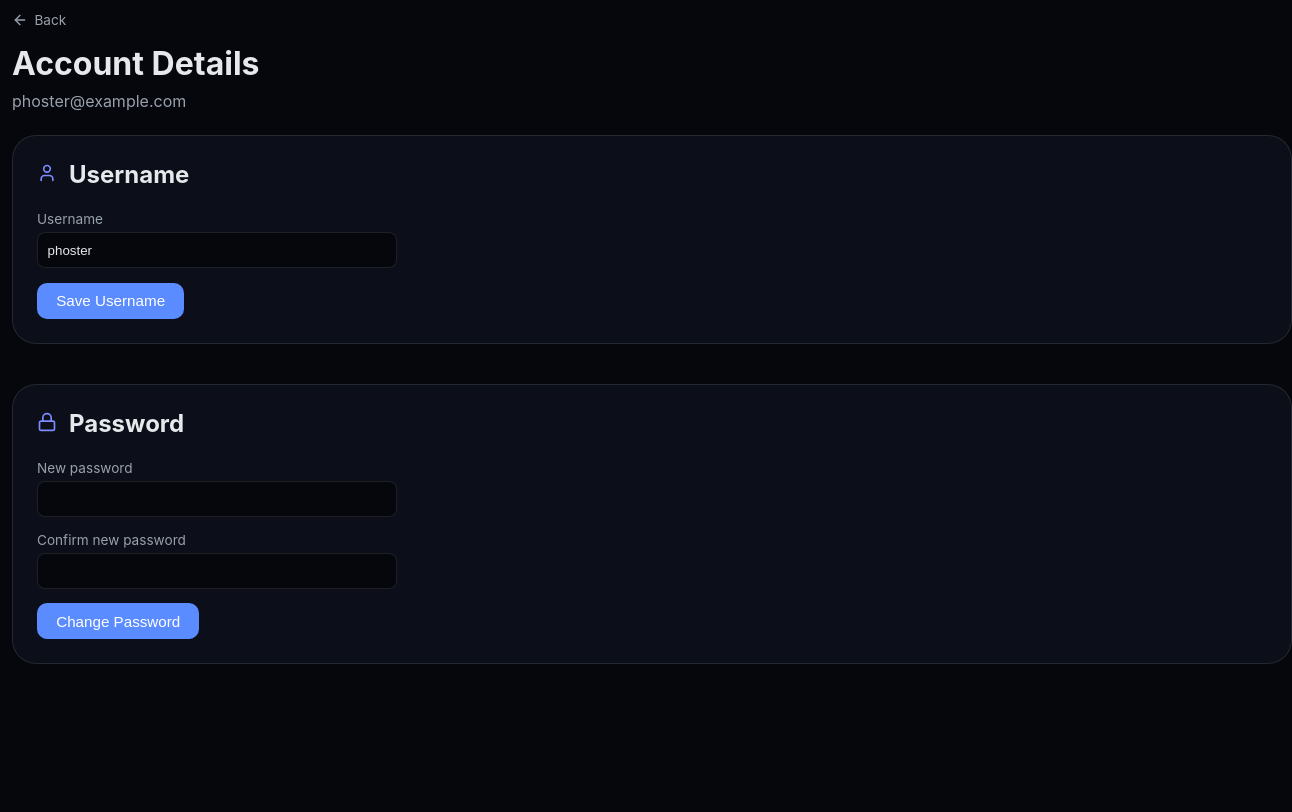
Account › saves a new username through the backend, not directly via Supabase
Replace the text in the field showing "phoster" with "newname": (217, 250) [37, 232, 397, 268]
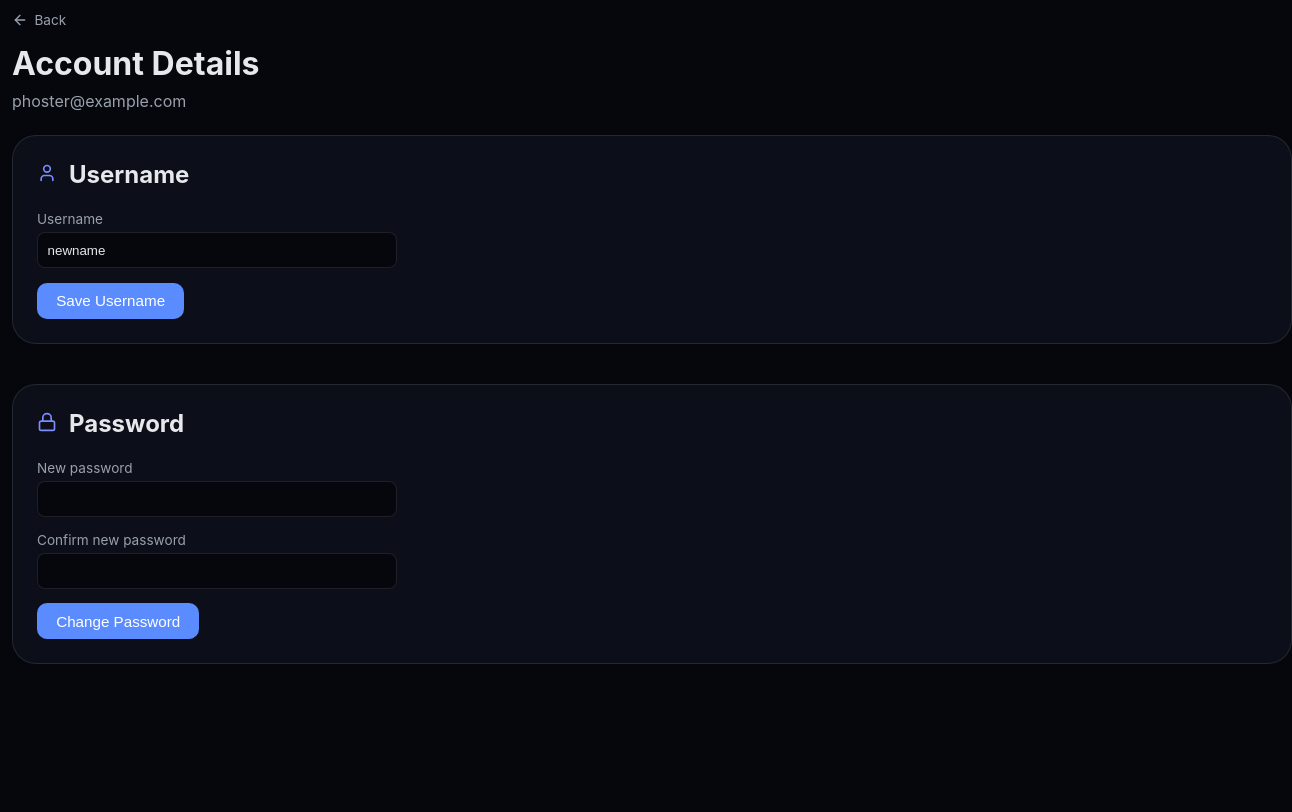
Click the button "Save Username": (111, 301) [37, 283, 184, 319]
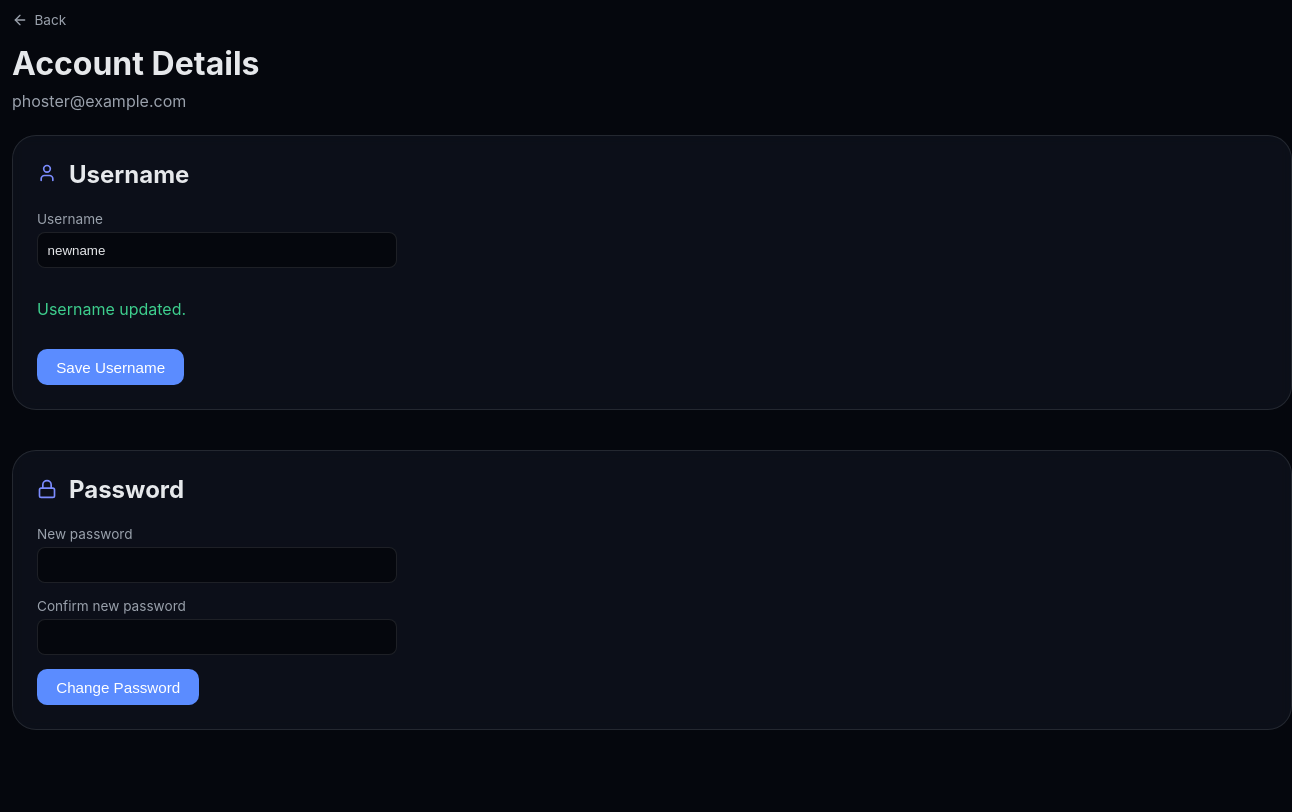
Now the text "Username updated." is shown, box [37, 299, 186, 319]
